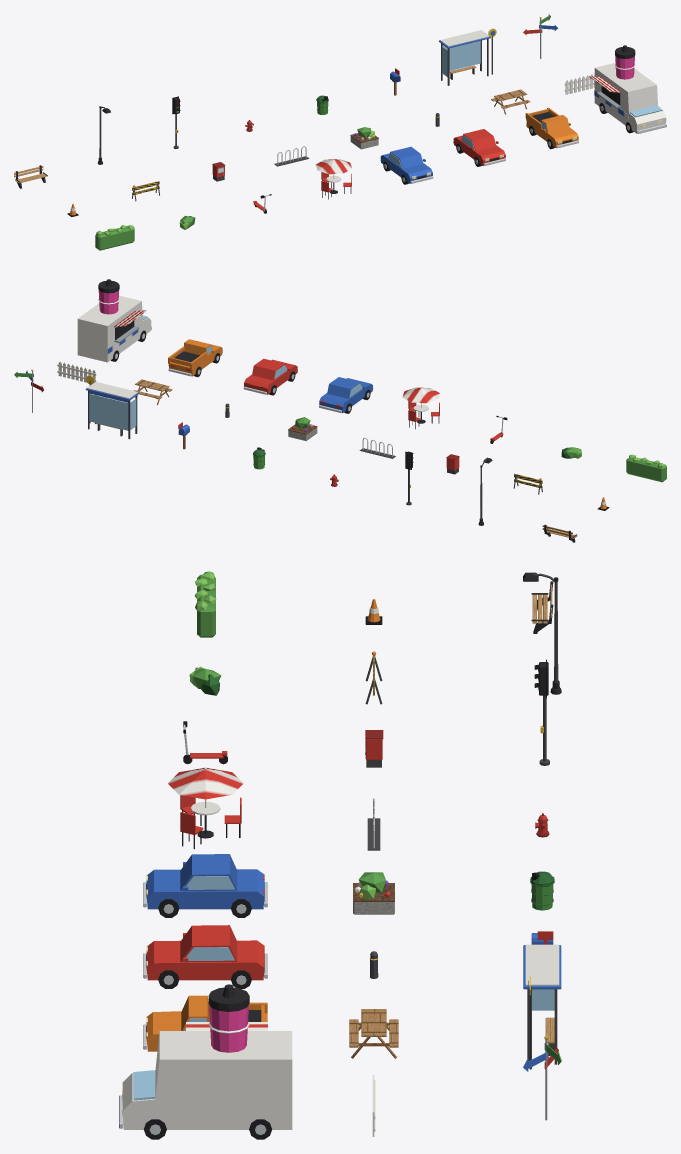
File: Props_Street.fbx
3 views of the same model, one above another, from view 1: azimuth 30°, elevation 25°; view 2: azimuth 150°, elevation 25°; view 3: azimuth 270°, elevation 25° (orthographic). The views are drawn at different scales.
Parts seen in each view (by area): view 1: ShakeTruck, BusShelter, CarPickup, CarSedan, CarSedanRed, CafeSet, Hedge, Planter, PicnicTable, PicketFence, Bench; view 2: ShakeTruck, BusShelter, CarPickup, CarSedanRed, CarSedan, CafeSet, Hedge, Planter, PicketFence, PicnicTable; view 3: ShakeTruck, CarSedan, CarSedanRed, CafeSet, BusShelter, CarPickup, Planter, PicnicTable, Hedge, TrashBin.
Part boxes in pixels (x1,y1,x2,y2): ShakeTruck: (589,45,666,133); BusShelter: (439,28,496,85); CarPickup: (525,107,578,149); CarSedan: (380,146,433,184); CarSedanRed: (453,129,505,166); CafeSet: (315,158,351,199); Hedge: (95,225,134,250); Planter: (350,127,378,149); PicnicTable: (491,89,530,114); PicketFence: (564,74,594,94); Bench: (14,165,47,188); ShakeTruck: (77,279,151,362); BusShelter: (85,375,139,439); CarPickup: (168,339,222,377); CarSedanRed: (243,358,297,395); CarSedan: (319,377,373,413); CafeSet: (402,387,439,429); Hedge: (626,454,666,482); Planter: (288,417,317,441); PicketFence: (57,361,96,382); PicnicTable: (133,379,172,405); ShakeTruck: (119,984,292,1139); CarSedan: (143,854,267,917); CarSedanRed: (143,925,267,988); CafeSet: (168,767,243,849); BusShelter: (523,944,561,1069); CarPickup: (143,995,267,1051); Planter: (353,872,394,914); PicnicTable: (349,1009,398,1058); Hedge: (195,571,216,637); TrashBin: (530,871,554,910).
Bounding box in the file's own units: 121 × 14.55 × 42.08.
1 material, 1 textured.
